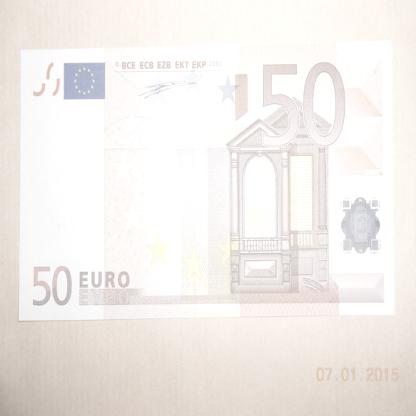euro_banknote: (17, 46, 397, 319)
